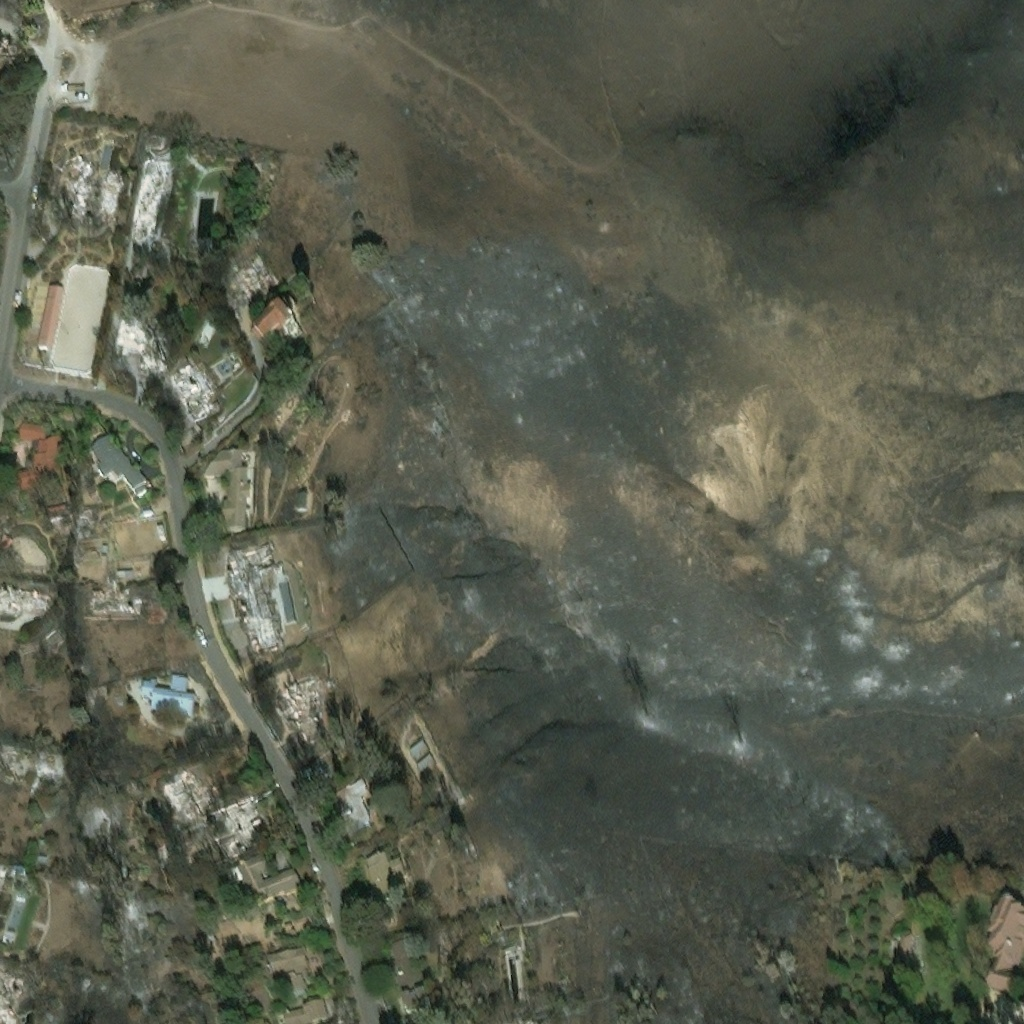0 no-damage: (975, 895, 1023, 1001), (201, 448, 253, 532), (88, 430, 150, 498), (236, 850, 300, 904), (388, 937, 430, 1017), (14, 431, 67, 493), (251, 296, 301, 345), (141, 673, 196, 715), (268, 945, 311, 996), (275, 996, 336, 1023), (18, 418, 45, 436)
1 minor-damage: (33, 254, 111, 372), (360, 852, 406, 901), (339, 771, 376, 825), (49, 500, 71, 525), (415, 752, 437, 771), (447, 782, 467, 802), (408, 740, 428, 758), (36, 855, 47, 863)
3 destroyed: (223, 542, 298, 652), (56, 150, 126, 217), (165, 358, 223, 423), (165, 766, 223, 815), (114, 310, 163, 366), (130, 167, 168, 239), (222, 793, 264, 858), (280, 673, 319, 740), (234, 253, 273, 298), (0, 965, 28, 1023), (534, 922, 557, 990), (190, 193, 214, 235), (17, 588, 47, 610), (215, 356, 234, 376), (897, 925, 910, 952), (116, 571, 133, 578)
